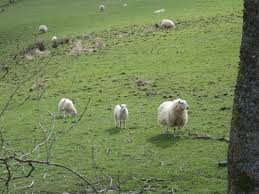sheep: (159, 98, 193, 141), (112, 105, 130, 132), (58, 98, 80, 117), (158, 19, 178, 31), (37, 25, 52, 36), (95, 3, 106, 13)
